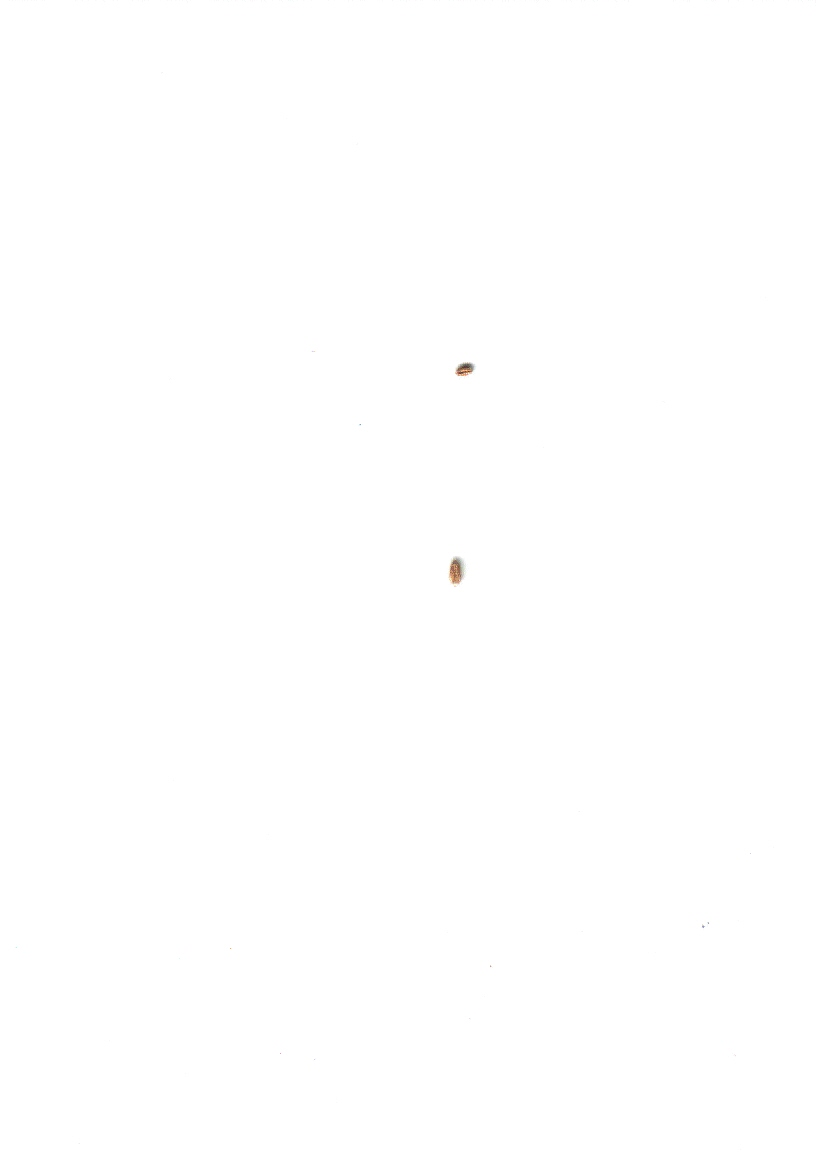grains: (429, 547, 486, 602), (445, 353, 484, 394)
